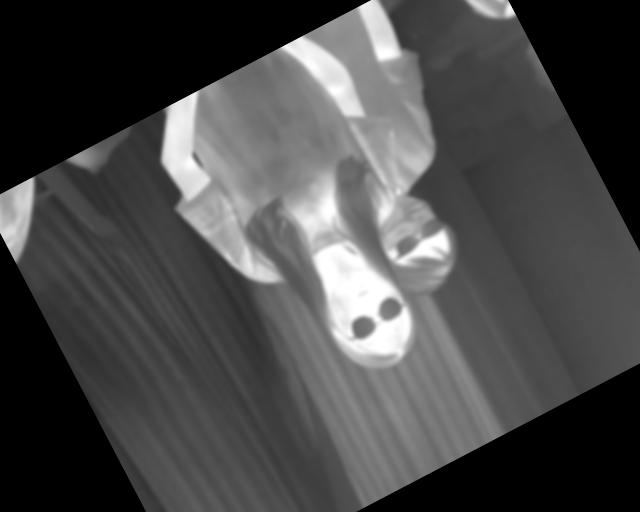face: (308, 252, 428, 383), (363, 179, 473, 303)
